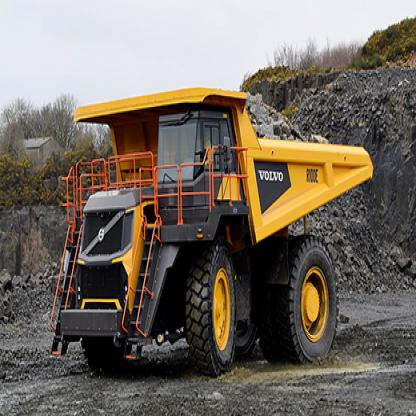dump_truck: (59, 78, 374, 372)
